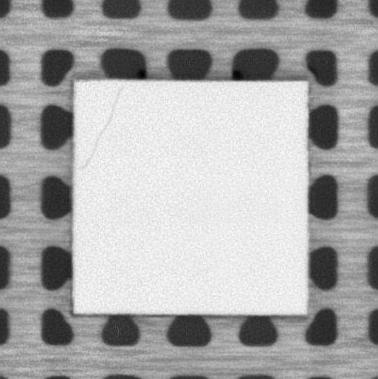DIE_CRACK: (81, 87, 124, 168)
